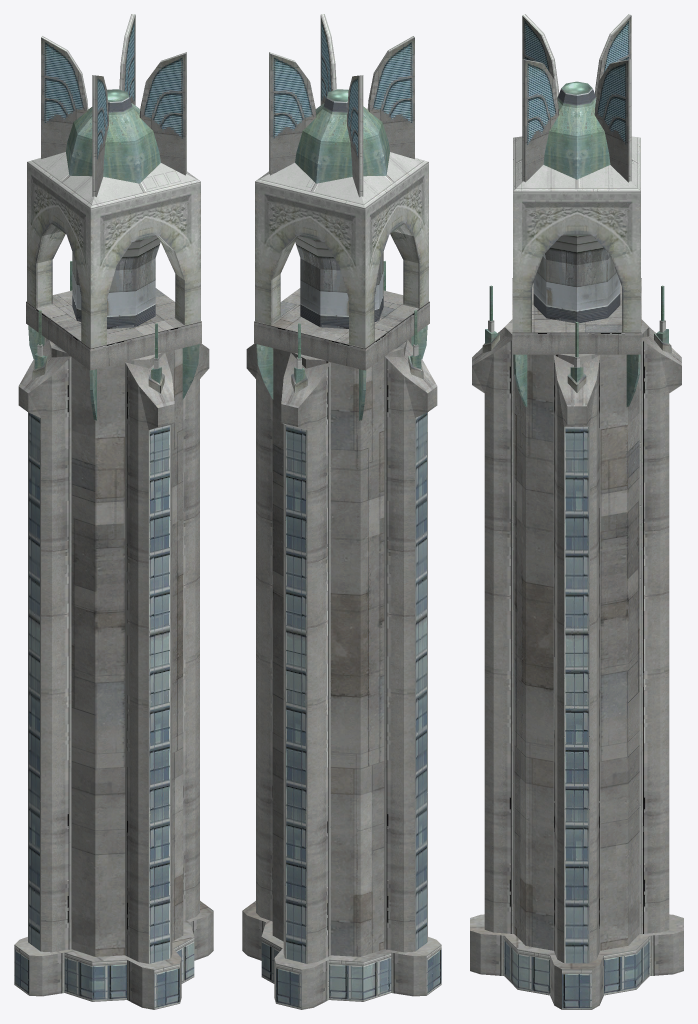
File: eaw_corBuild3.glb
3 views of the same model, side by side, from view 1: azimuth 30°, elevation 25°; view 2: azimuth 150°, elevation 25°; view 3: azimuth 270°, elevation 25° (orthographic).
Visible parts, largest first — view 1: W_Urban_CorBuild_B_ALT0_0; view 2: W_Urban_CorBuild_B_ALT0_0; view 3: W_Urban_CorBuild_B_ALT0_0.
Part boxes in pixels (x1,y1,x2,y2): W_Urban_CorBuild_B_ALT0_0: (14,14,213,1009); W_Urban_CorBuild_B_ALT0_0: (242,14,441,1009); W_Urban_CorBuild_B_ALT0_0: (470,14,683,1009).
Bounding box in the file's own units: 9.61 × 46.02 × 9.61.
Materials: 1 (1 with a texture image).
